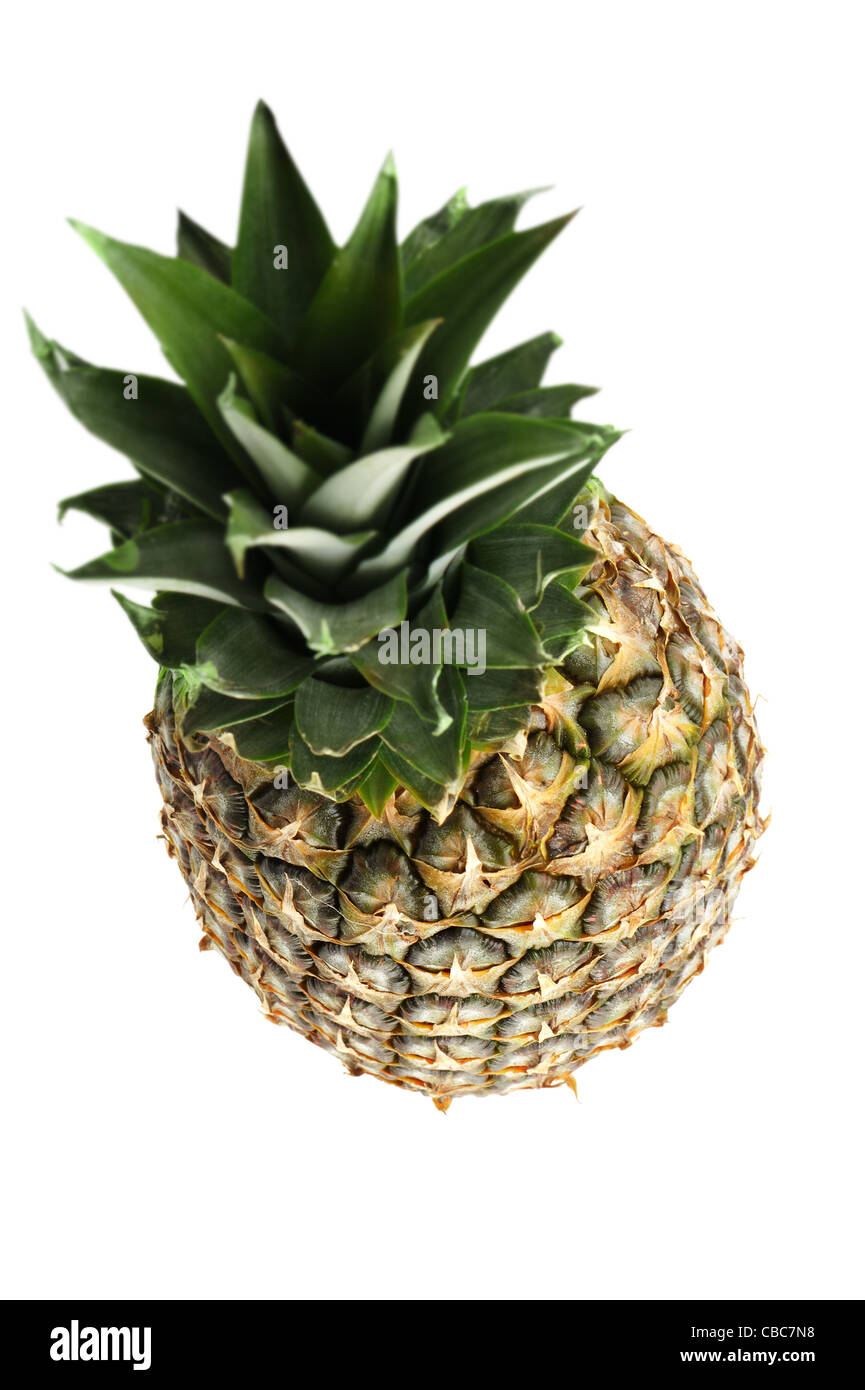pineapple: (59, 185, 793, 1160)
